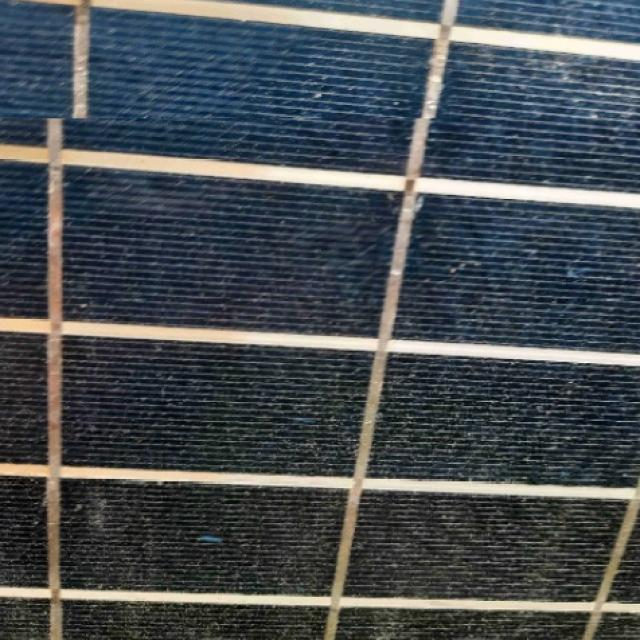Dirty: (0, 118, 640, 640)
